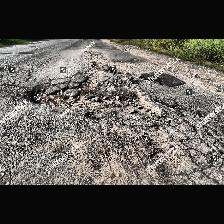pothole: (25, 76, 87, 108)
